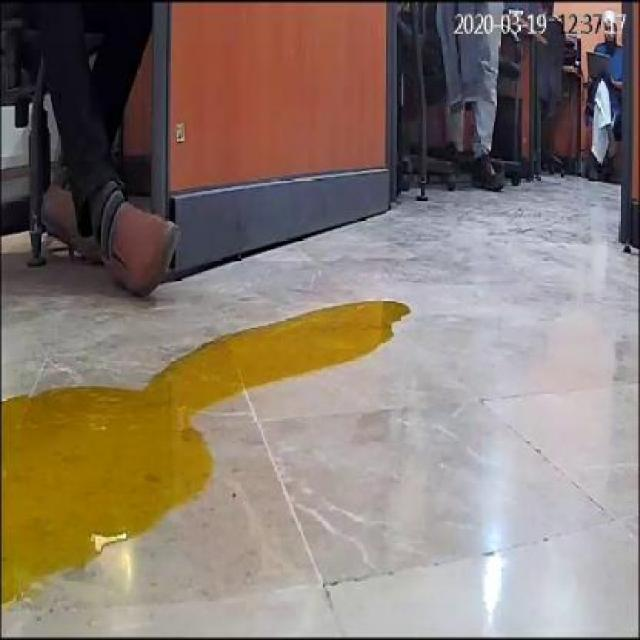spill: (3, 296, 414, 602)
